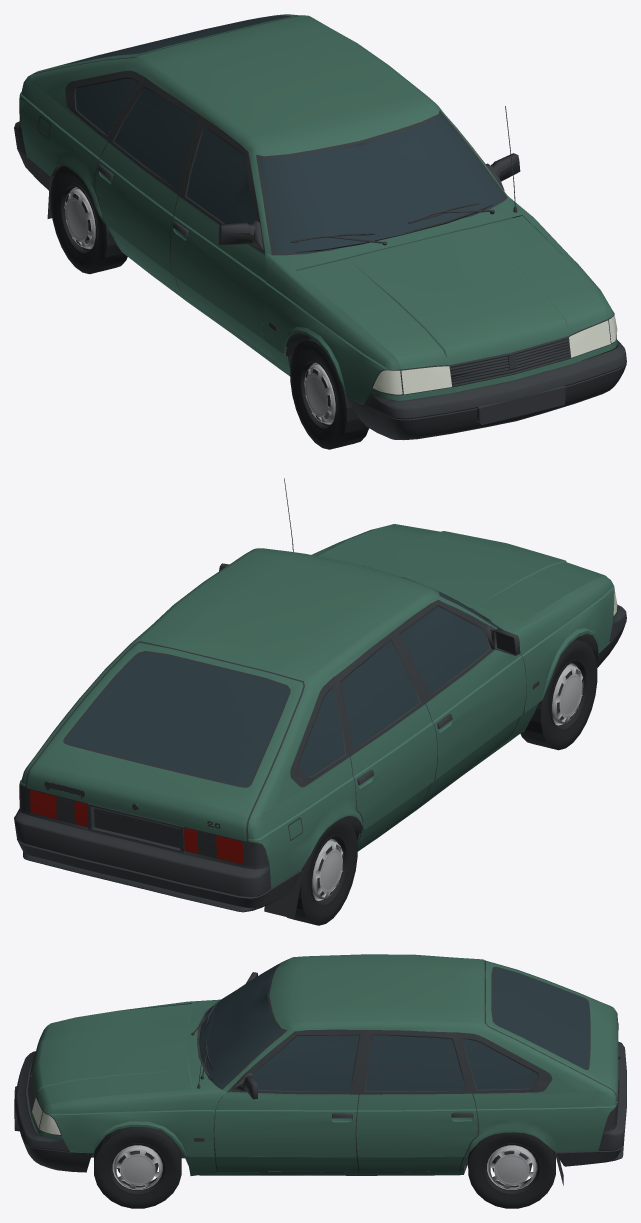
The model's file is azlk2141.glb.
3 views of the same model, one above another, from view 1: azimuth 30°, elevation 25°; view 2: azimuth 150°, elevation 25°; view 3: azimuth 270°, elevation 25° (orthographic). The views are drawn at different scales.
Visible parts, largest first — view 1: chassisbody, glass, chassis_trim, wheel_fr, wheel_rr, headlights; view 2: chassisbody, glass, chassis_trim, wheel_fr, wheel_rr, taillights; view 3: chassisbody, glass, chassis_trim, wheel_fl, wheel_rl, headlights.
Part boxes in pixels (bbox=[...]): chassisbody: bbox=[19, 14, 617, 404]; glass: bbox=[66, 15, 504, 253]; chassis_trim: bbox=[14, 15, 626, 440]; wheel_fr: bbox=[290, 339, 368, 449]; wheel_rr: bbox=[50, 165, 127, 274]; headlights: bbox=[373, 315, 617, 394]; chassisbody: bbox=[19, 524, 617, 888]; glass: bbox=[65, 577, 502, 786]; chassis_trim: bbox=[14, 478, 626, 918]; wheel_fr: bbox=[520, 639, 597, 750]; wheel_rr: bbox=[287, 817, 357, 925]; taillights: bbox=[30, 790, 243, 864]; chassisbody: bbox=[27, 954, 618, 1175]; glass: bbox=[199, 964, 589, 1091]; chassis_trim: bbox=[14, 960, 626, 1185]; wheel_fl: bbox=[94, 1127, 181, 1208]; wheel_rl: bbox=[468, 1132, 555, 1208]; headlights: bbox=[32, 1097, 60, 1134].
Bounding box in the file's own units: 2.16 × 1.68 × 4.88.
